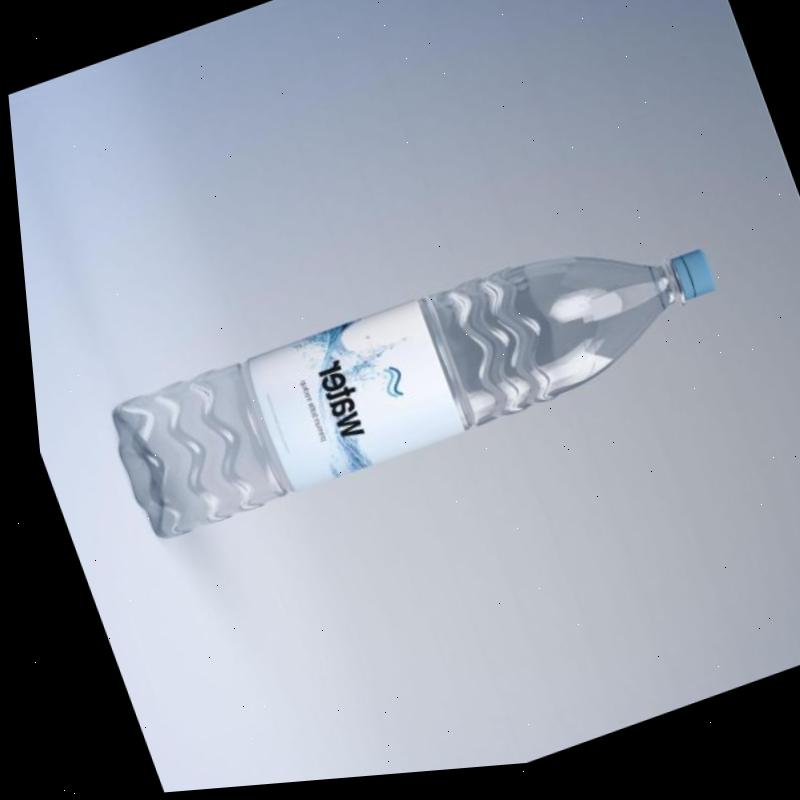botella: (86, 206, 737, 544)
